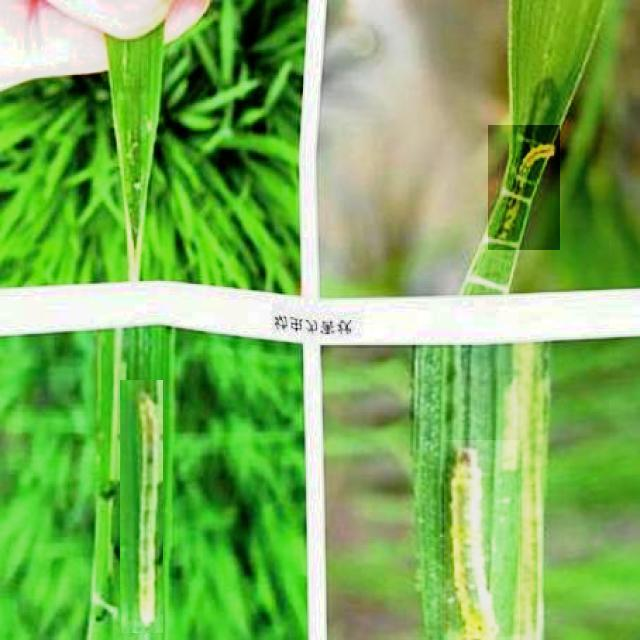leaf-folder: (444, 440, 520, 640), (120, 380, 163, 633), (488, 125, 560, 250)
